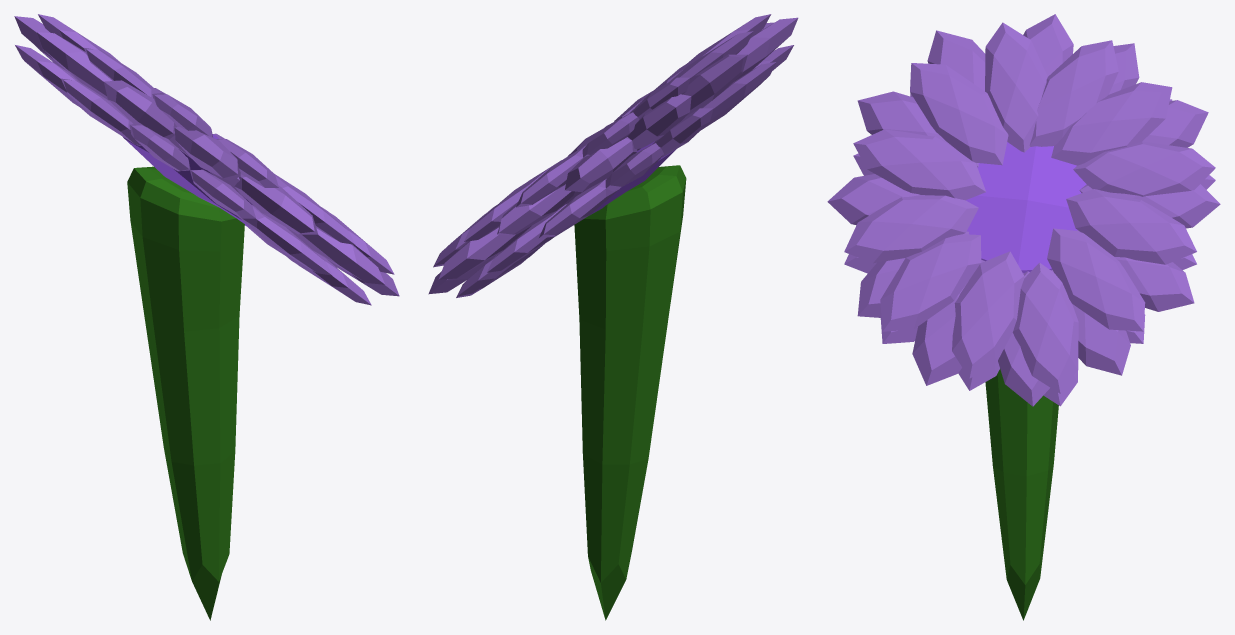
Rendered from PurpleFlower_Separated_v.3.0.fbx.
3 renders of one model, left to right at view 1: azimuth 30°, elevation 25°; view 2: azimuth 150°, elevation 25°; view 3: azimuth 270°, elevation 25°, orthographic. The views are drawn at different scales.
Visible parts, largest first — view 1: Cube.012; view 2: Cube.012; view 3: Cube.012.
Boxes of the visible parts, <box> form: Cube.012: <box>14,14,399,620</box>; Cube.012: <box>428,14,798,620</box>; Cube.012: <box>827,14,1220,620</box>.
Bounding box in the file's own units: 26.55 × 50.17 × 33.12.
